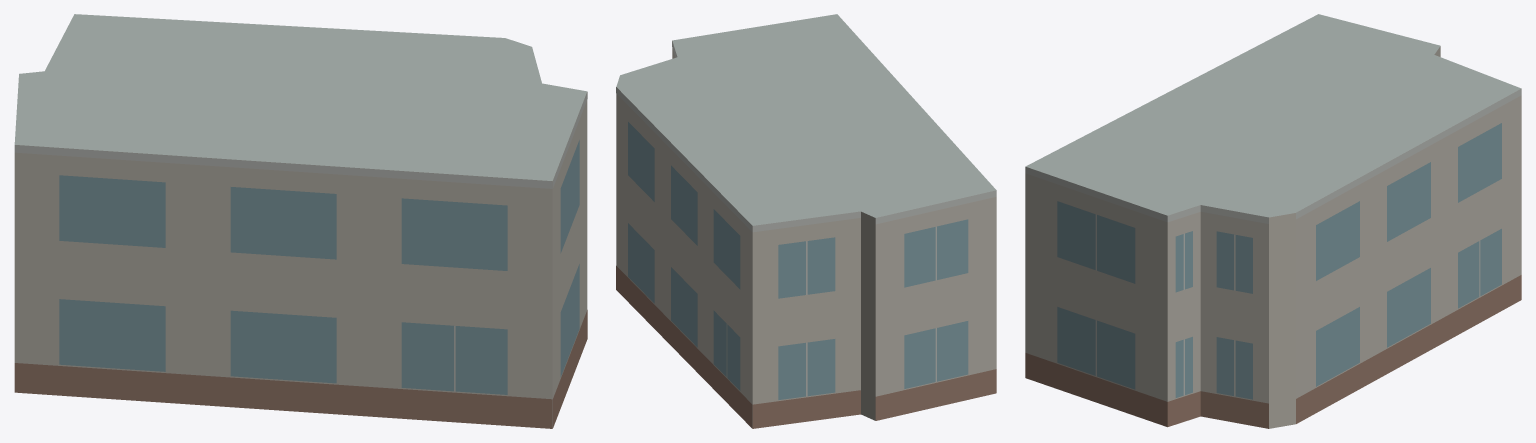
Rendered from survey-upis-32669852.glb.
3 views of the same model, side by side, from view 1: azimuth 30°, elevation 25°; view 2: azimuth 150°, elevation 25°; view 3: azimuth 270°, elevation 25° (orthographic). The views are drawn at different scales.
Parts seen in each view (by area): view 1: survey-upis-32669852.tmp; view 2: survey-upis-32669852.tmp; view 3: survey-upis-32669852.tmp.
Part boxes in pixels (box(x1,y1,x2,y2)): survey-upis-32669852.tmp: box(14, 14, 587, 428); survey-upis-32669852.tmp: box(616, 14, 996, 428); survey-upis-32669852.tmp: box(1025, 14, 1521, 428).
Size of the model in its own units: 15.9 by 7.7 by 16.39.
